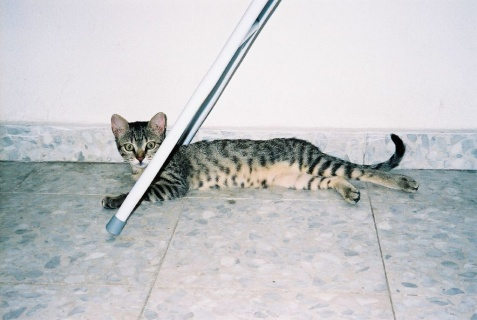Cat: (97, 109, 420, 210)
